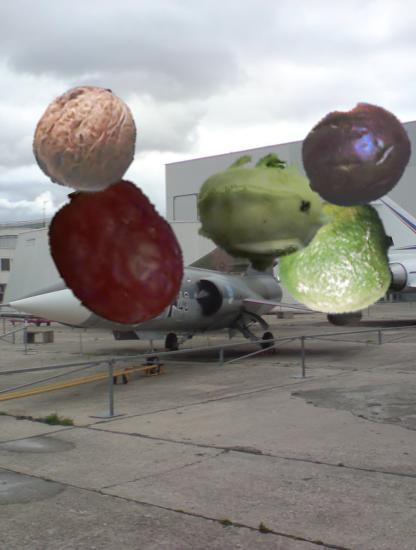Grape: (42, 180, 191, 329)
Kohlrabi: (195, 141, 338, 284)
Limes: (274, 197, 396, 319)
Passion: (300, 97, 416, 213)
Walnut: (32, 84, 143, 195)
